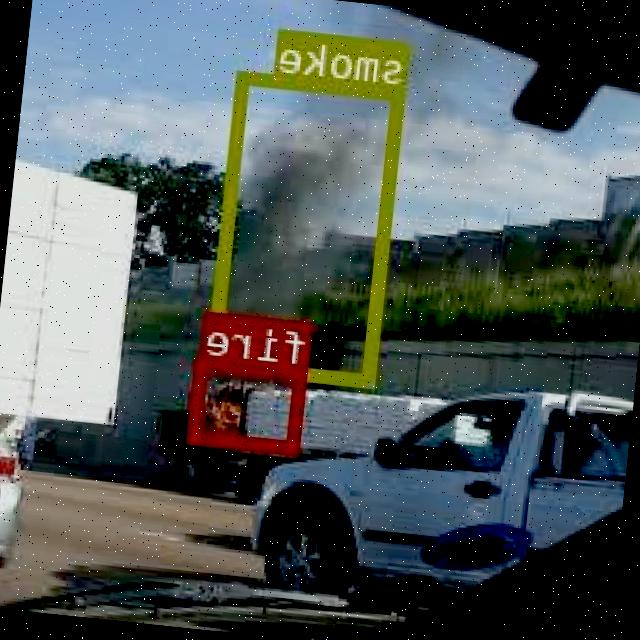fire: (188, 353, 310, 452)
smoke: (208, 67, 406, 386)
